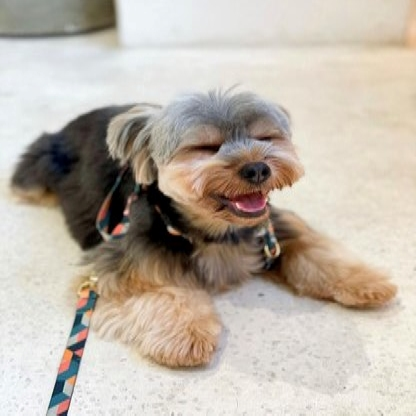yorkshire: (7, 85, 403, 373)
